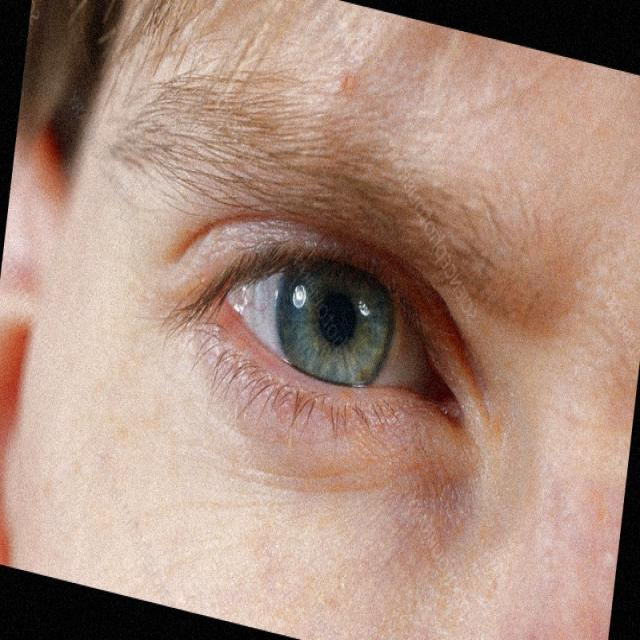Healthy-Eye: (150, 160, 496, 528)
